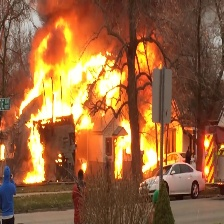fire: (8, 15, 219, 186)
